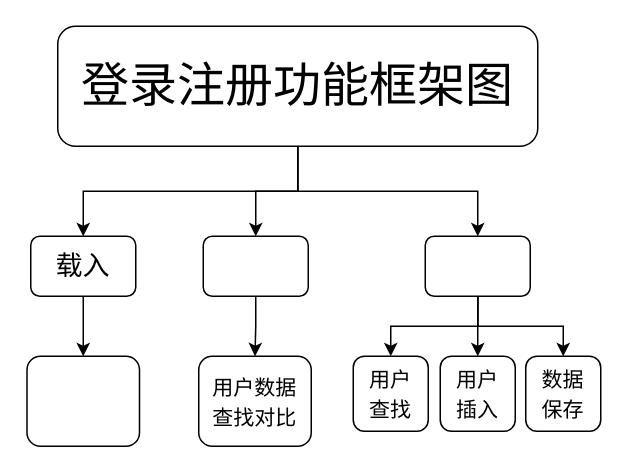
This 627x473 diagram has some shape labels left out. The shapes that lost their labels are listed below. From the top down, each one's centre as x and y in pixels, then its label:
the point at 255,265: 登录
the point at 477,265: 注册
the point at 83,400: 所有用户 数据载入
